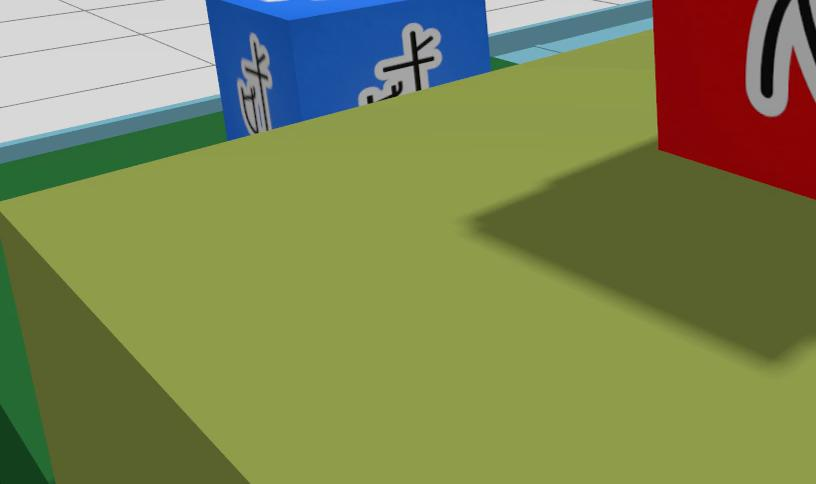KFS_FAKE: (653, 0, 816, 198), (745, 0, 816, 116)
KFS_REAL: (206, 0, 488, 139), (359, 23, 442, 105), (235, 33, 272, 133), (309, 0, 330, 1), (265, 0, 276, 1)
